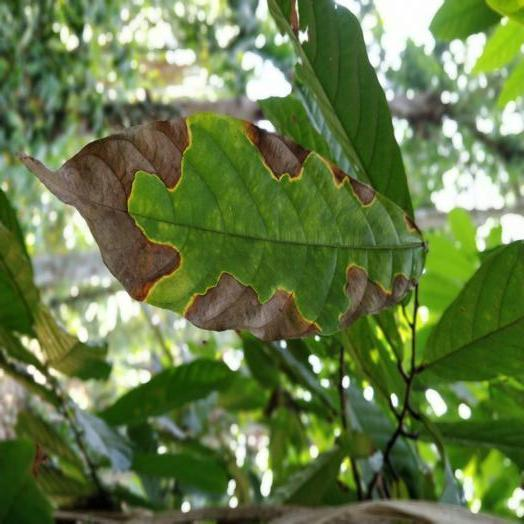Potassium: (23, 113, 424, 339)
